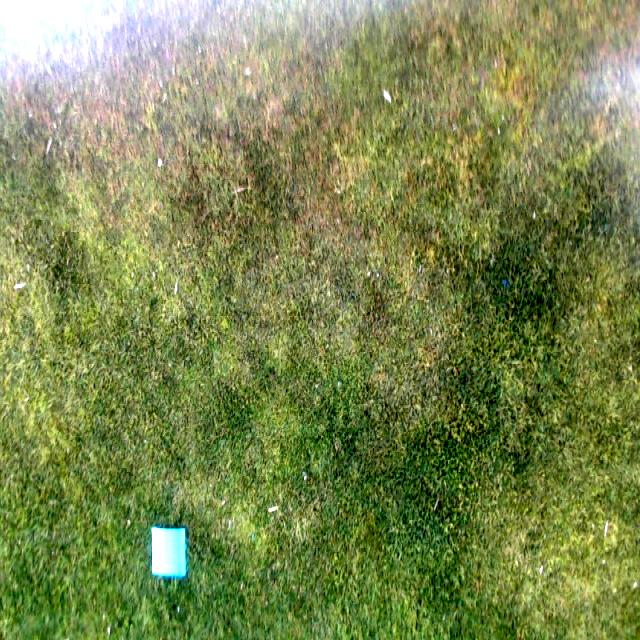blue_square: (151, 527, 187, 576)
